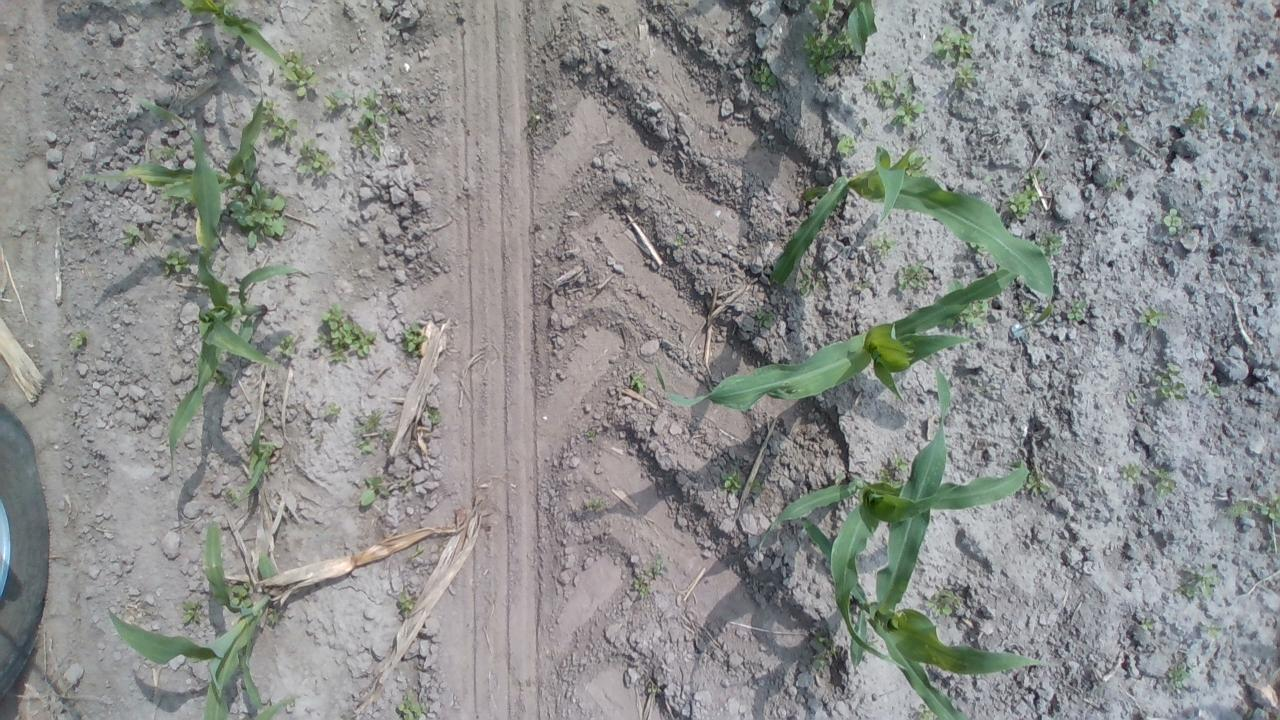Maize: (789, 360, 1055, 720), (139, 97, 311, 482), (765, 464, 1030, 668), (769, 146, 1056, 334), (652, 268, 1018, 413), (109, 521, 297, 720), (75, 94, 269, 251), (171, 0, 302, 81), (242, 415, 276, 505), (848, 0, 878, 53)
Weeds: (219, 180, 287, 250), (312, 304, 378, 364), (864, 71, 924, 128), (350, 87, 390, 160), (800, 29, 851, 81), (279, 47, 320, 98), (260, 99, 300, 144), (931, 24, 977, 63), (294, 136, 337, 176), (1180, 562, 1218, 601), (923, 582, 964, 616), (1006, 183, 1042, 221), (876, 450, 911, 488), (1154, 362, 1186, 402), (356, 410, 382, 454), (812, 629, 837, 670), (896, 262, 930, 292), (401, 319, 427, 357), (361, 473, 388, 509), (398, 690, 430, 720), (160, 246, 192, 274), (1251, 494, 1280, 524), (960, 300, 991, 328), (796, 266, 826, 294), (322, 88, 356, 112), (751, 62, 778, 90), (1025, 468, 1052, 496), (1135, 306, 1170, 327), (1022, 302, 1058, 322), (1152, 467, 1176, 497), (1183, 104, 1210, 130), (954, 64, 978, 91), (870, 231, 898, 254), (1166, 662, 1189, 690), (904, 154, 928, 180), (1038, 230, 1062, 256), (150, 140, 178, 162), (1162, 206, 1184, 234), (228, 583, 252, 608), (808, 0, 834, 22), (719, 468, 742, 492), (1220, 501, 1250, 519), (836, 133, 858, 157), (272, 332, 296, 354), (640, 558, 664, 579), (192, 31, 212, 56), (120, 222, 140, 247), (1120, 462, 1142, 484), (182, 600, 202, 624), (1198, 622, 1222, 640), (1067, 302, 1088, 322), (160, 192, 183, 210), (1024, 169, 1047, 186), (962, 241, 988, 256), (68, 330, 87, 348), (224, 485, 240, 506), (398, 591, 413, 613), (756, 310, 773, 328), (423, 406, 441, 423), (918, 704, 936, 720), (633, 578, 648, 597), (630, 373, 646, 390), (946, 278, 966, 291), (1262, 539, 1280, 553), (324, 401, 340, 416), (266, 608, 280, 625), (1137, 617, 1154, 631), (214, 374, 233, 386), (672, 233, 687, 248), (1205, 383, 1221, 397), (750, 477, 763, 494), (1106, 177, 1124, 189), (412, 542, 426, 557), (1008, 458, 1023, 472), (1117, 120, 1130, 136), (834, 467, 847, 482), (5, 146, 18, 158), (526, 110, 540, 121), (853, 281, 872, 289), (1126, 391, 1136, 406), (590, 498, 604, 508), (388, 102, 401, 112), (585, 430, 596, 441), (982, 174, 993, 184), (50, 191, 61, 201), (384, 430, 394, 440), (738, 31, 746, 43), (1142, 57, 1150, 67), (1147, 0, 1158, 7), (647, 684, 656, 692)
